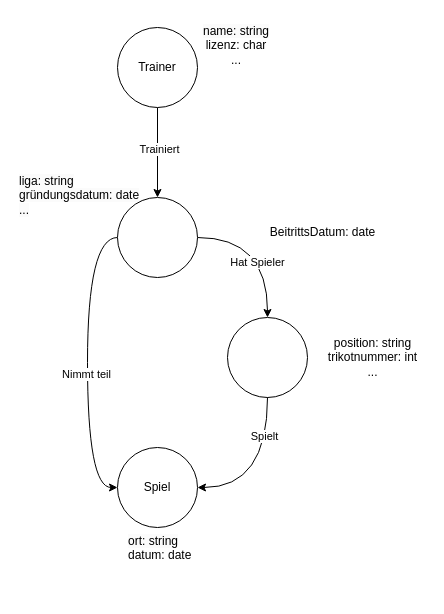
Image size: 444x614. Some labels were removed from this diagram. Each missing label, with the box of its shape:
Spieler: (226, 316, 308, 398)
Team: (116, 196, 198, 278)
